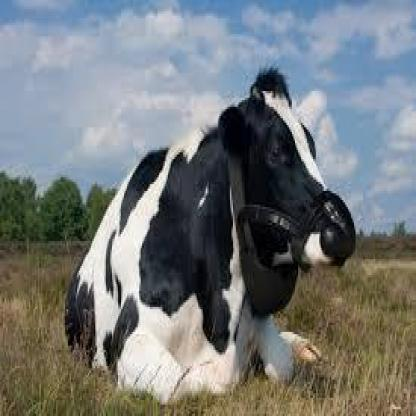cow: (64, 70, 357, 402)
